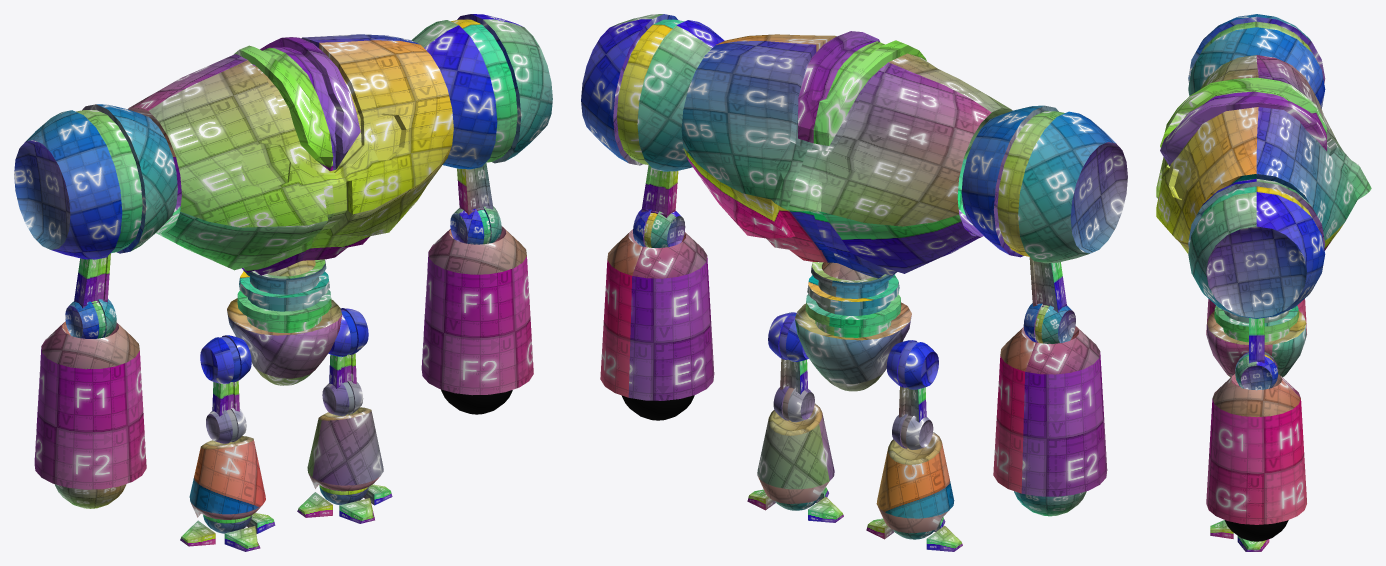
The model's file is UVRobo.obj.
The picture shows the model from 3 angles, left to right: view 1: azimuth 30°, elevation 25°; view 2: azimuth 150°, elevation 25°; view 3: azimuth 270°, elevation 25°; orthographic projection. The views are drawn at different scales.
Parts seen in each view (by area): view 1: pCylinder18, pCylinder32, polySurface10, pCylinder8, pCube33, pCylinder14, pCylinder15, pCylinder31, polySurface5, pCube34, polySurface8, initialShadingGroup pSphere3 (+5 smaller); view 2: pCylinder18, pCylinder32, polySurface10, pCylinder8, pCube33, pCylinder14, pCylinder15, pCylinder31, polySurface5, pCube34, polySurface8, initialShadingGroup pSphere3 (+3 smaller); view 3: pCylinder32, pCylinder18, polySurface10, pCube33, pCylinder15, pCylinder14, pCylinder31, initialShadingGroup pSphere3, pCube34, pCube27, pCube28.
Part boxes in pixels (x1,y1,x2,y2): pCylinder18: (128, 34, 453, 275); pCylinder32: (14, 14, 552, 259); polySurface10: (34, 226, 533, 489); pCylinder8: (189, 407, 383, 519); pCube33: (234, 37, 360, 171); pCylinder14: (237, 259, 331, 332); pCylinder15: (227, 298, 342, 385); pCylinder31: (65, 206, 501, 338); polySurface5: (200, 308, 368, 383); pCube34: (74, 163, 493, 308); polySurface8: (206, 381, 363, 443); initialShadingGroup pSphere3: (55, 389, 512, 508); pCylinder18: (681, 34, 1012, 278); pCylinder32: (581, 14, 1127, 263); polySurface10: (600, 229, 1107, 496); pCylinder8: (757, 403, 954, 533); pCube33: (798, 31, 926, 145); pCylinder14: (805, 262, 901, 337); pCylinder15: (795, 302, 911, 391); pCylinder31: (633, 209, 1075, 343); polySurface5: (768, 312, 938, 389); pCube34: (641, 165, 1066, 312); polySurface8: (773, 386, 933, 449); initialShadingGroup pSphere3: (621, 395, 1086, 516); pCylinder32: (1188, 14, 1325, 318); pCylinder18: (1156, 55, 1371, 253); polySurface10: (1206, 299, 1306, 524); pCube33: (1160, 77, 1326, 166); pCylinder15: (1206, 311, 1306, 377); pCylinder14: (1214, 305, 1298, 342); pCylinder31: (1235, 352, 1278, 390); initialShadingGroup pSphere3: (1225, 520, 1288, 541); pCube34: (1249, 318, 1264, 363); pCube27: (1210, 520, 1233, 538); pCube28: (1237, 536, 1269, 551).
Size of the model in its own units: 4.32 by 3.99 by 1.86.
